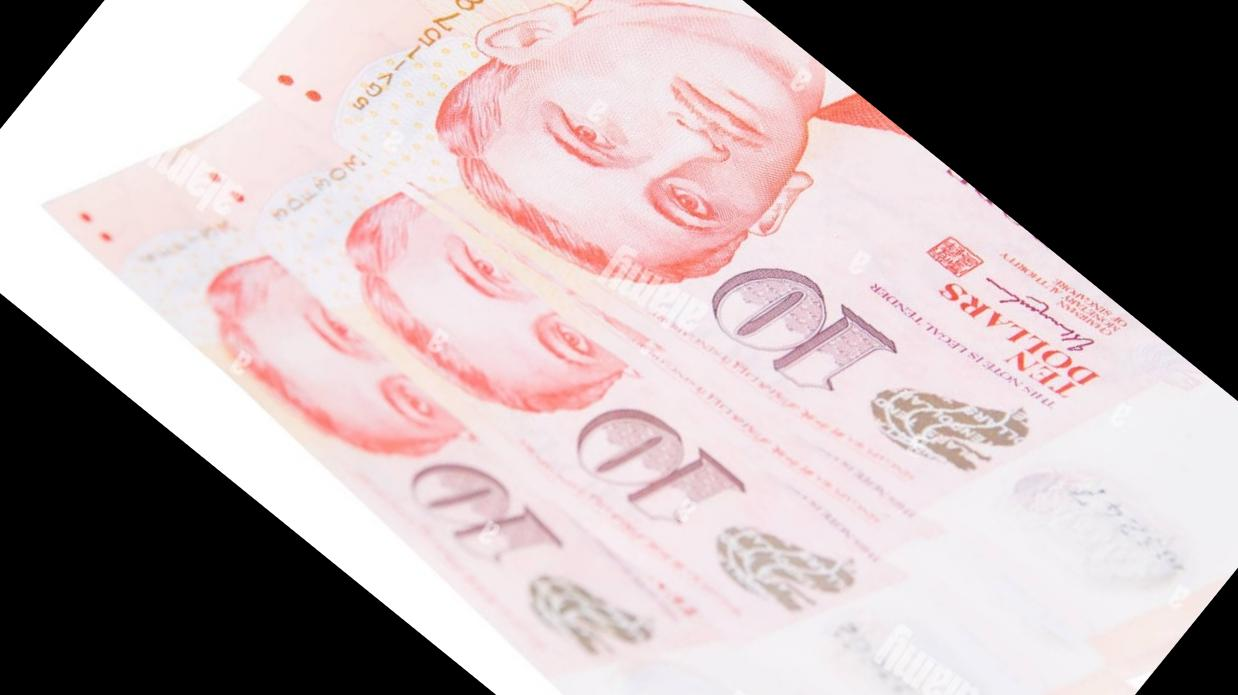10SingaporeDollar: (268, 0, 1238, 695)
